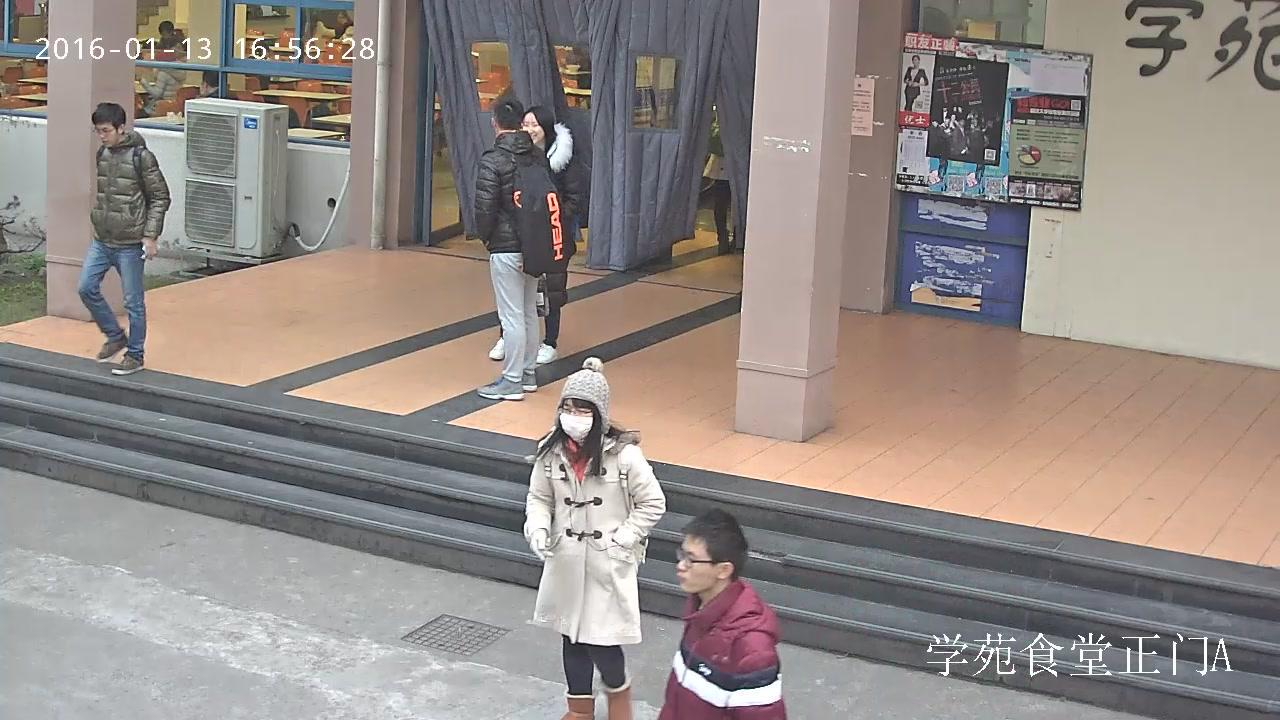person: (524, 356, 666, 720), (476, 97, 566, 401), (656, 510, 785, 720), (78, 102, 169, 375), (488, 106, 574, 364), (703, 115, 734, 255), (138, 66, 179, 117), (903, 55, 928, 111), (154, 19, 184, 54)
